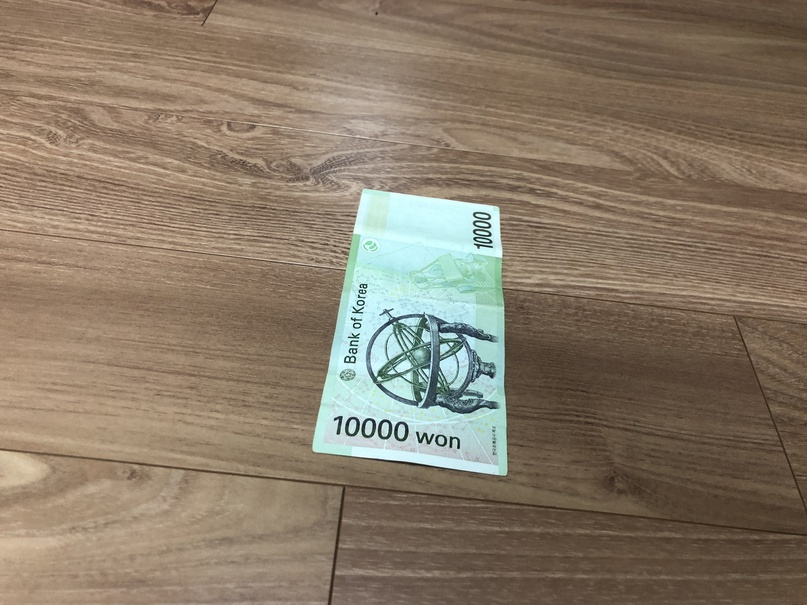10000won: (311, 189, 511, 478)
